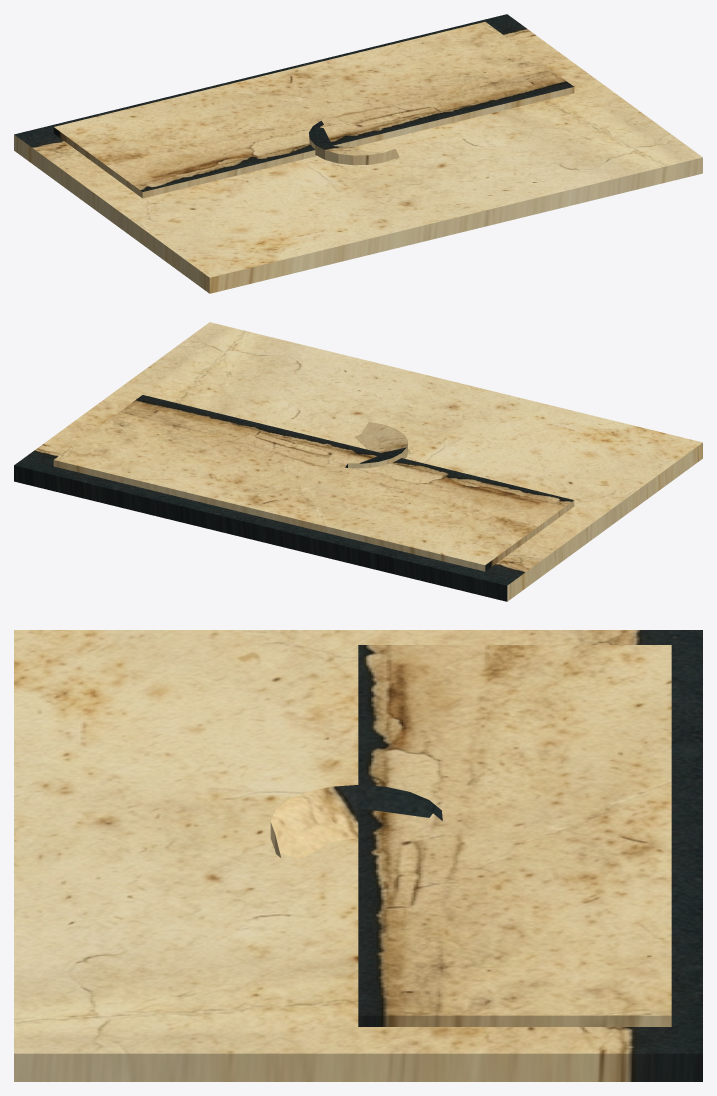
Rendered from SM_Prop_Letter_01.glb.
3 renders of one model, top to bottom at view 1: azimuth 30°, elevation 25°; view 2: azimuth 150°, elevation 25°; view 3: azimuth 270°, elevation 25°, orthographic. The views are drawn at different scales.
Visible parts, largest first — view 1: SM_Prop_Letter_01; view 2: SM_Prop_Letter_01; view 3: SM_Prop_Letter_01.
Part boxes in pixels (bbox=[...]): SM_Prop_Letter_01: bbox=[14, 14, 702, 293]; SM_Prop_Letter_01: bbox=[14, 322, 702, 601]; SM_Prop_Letter_01: bbox=[14, 630, 702, 1081].
Bounding box in the file's own units: 0.16 × 0.01 × 0.11.
Materials: 1 (1 with a texture image).
